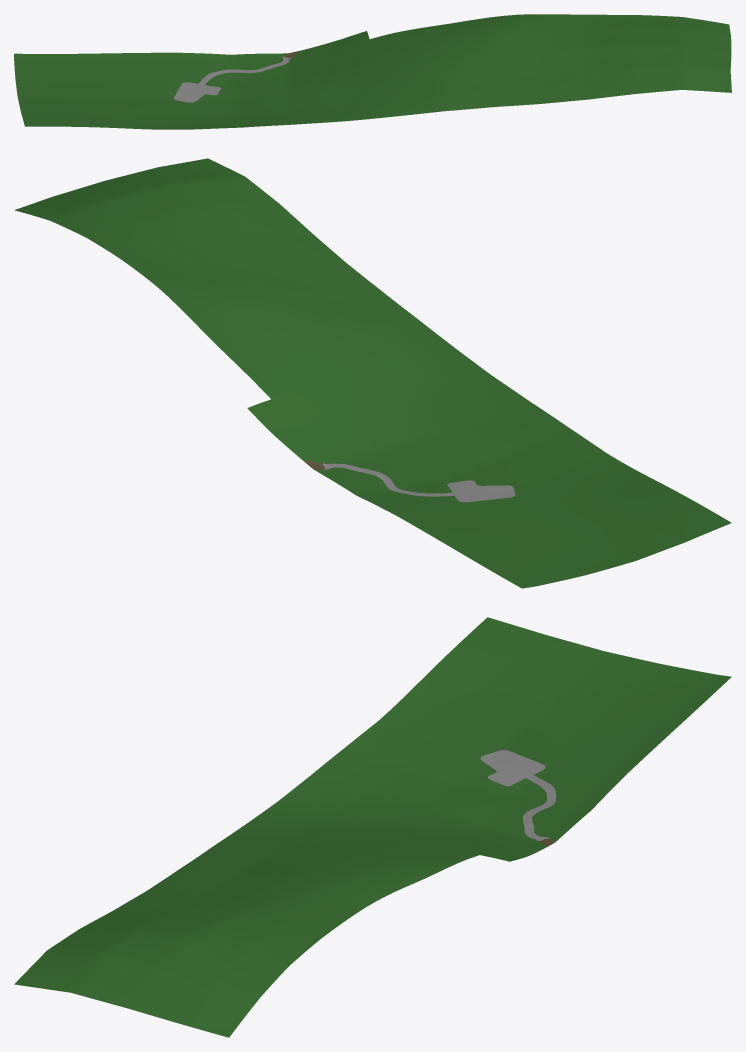
File: Placeholder_module08_Jokern.fbx
3 views of the same model, one above another, from view 1: azimuth 30°, elevation 25°; view 2: azimuth 150°, elevation 25°; view 3: azimuth 270°, elevation 25° (orthographic). The views are drawn at different scales.
Parts seen in each view (by area): view 1: Module7_Jokern; view 2: Module7_Jokern; view 3: Module7_Jokern.
Part boxes in pixels (x1,y1,x2,y2): Module7_Jokern: [14, 14, 731, 129]; Module7_Jokern: [14, 158, 731, 588]; Module7_Jokern: [14, 617, 731, 1037].
Bounding box in the file's own units: 63.16 × 4.72 × 43.16.
